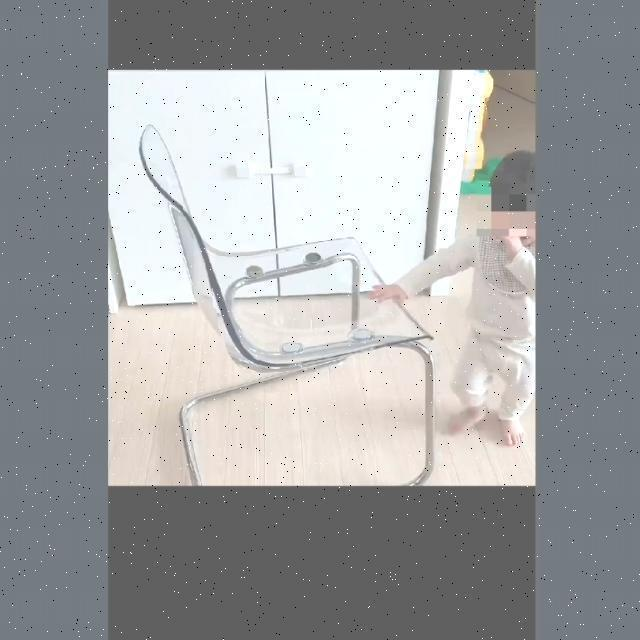child: (377, 156, 539, 445)
